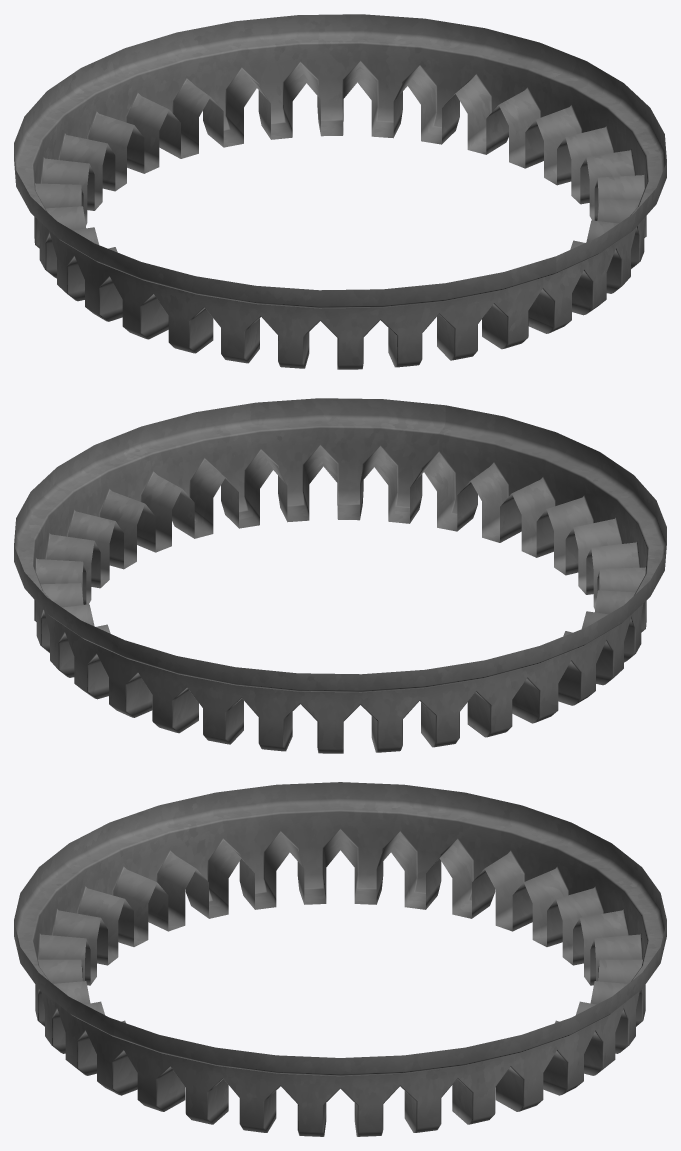
Rendered from Tower_RoofLowerV1.fbx.
3 renders of one model, top to bottom at view 1: azimuth 30°, elevation 25°; view 2: azimuth 150°, elevation 25°; view 3: azimuth 270°, elevation 25°, orthographic.
Parts seen in each view (by area): view 1: Tower_RoofLowerV1; view 2: Tower_RoofLowerV1; view 3: Tower_RoofLowerV1.
Boxes of the visible parts, x1,y1,x2,y2 form: Tower_RoofLowerV1: [14, 14, 666, 369]; Tower_RoofLowerV1: [14, 398, 666, 753]; Tower_RoofLowerV1: [14, 782, 666, 1136].
Bounding box in the file's own units: 592 × 92.75 × 592.
Materials: 1 (1 with a texture image).
